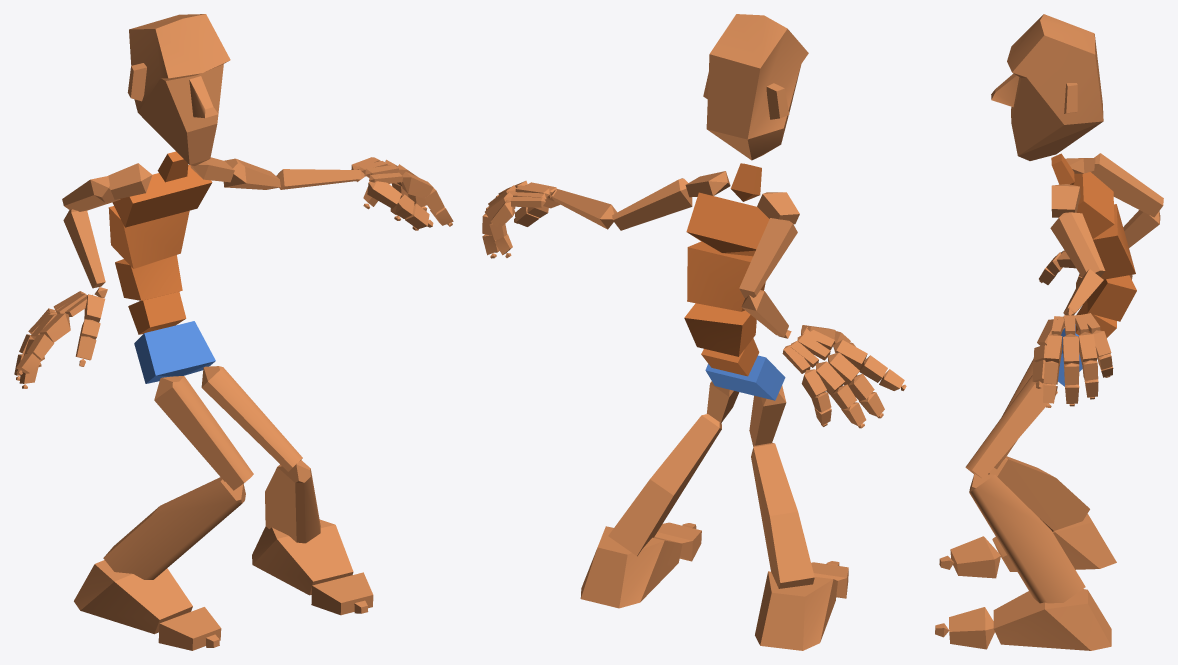
Rendered from prueba76.obj.
3 views of the same model, side by side, from view 1: azimuth 30°, elevation 25°; view 2: azimuth 150°, elevation 25°; view 3: azimuth 270°, elevation 25° (orthographic). The views are drawn at different scales.
Visible parts, largest first — view 1: BOPED_Head, BOPED_R_leg, BOPED_R_foot, BOPED_R_foot01, BOPED_R_legup, BOPED_L_leg, Bone01, BOPED_L_legup, Bone04, Bone05, Bone03, BOPED_R_foot_toe04 (+10 smaller); view 2: BOPED_Head, BOPED_R_leg, BOPED_L_leg, BOPED_R_foot01, BOPED_R_foot, Bone05, Bone04, Bone03, BOPED_R_arm_upper, BOPED_L_arm_upper, Bone01, BOPED_R_legup (+9 smaller); view 3: BOPED_Head, BOPED_L_leg, BOPED_R_foot01, BOPED_R_leg, BOPED_L_legup, BOPED_R_foot, BOPED_L_arm_upper, BOPED_R_arm_upper, Bone05, Bone04, BOPED_R_foot_toe01, Bone03 (+13 smaller).
Boxes of the visible parts, x1=… form: BOPED_Head: x1=127, y1=14, x2=230, y2=165; BOPED_R_leg: x1=103, y1=477, x2=245, y2=579; BOPED_R_foot: x1=74, y1=560, x2=192, y2=634; BOPED_R_foot01: x1=252, y1=519, x2=353, y2=595; BOPED_R_legup: x1=154, y1=376, x2=253, y2=490; BOPED_L_leg: x1=265, y1=460, x2=320, y2=543; Bone01: x1=134, y1=321, x2=215, y2=383; BOPED_L_legup: x1=201, y1=366, x2=302, y2=471; Bone04: x1=108, y1=206, x2=189, y2=268; Bone05: x1=112, y1=165, x2=212, y2=227; Bone03: x1=115, y1=255, x2=182, y2=300; BOPED_R_foot_toe04: x1=311, y1=572, x2=373, y2=615; BOPED_Head: x1=703, y1=14, x2=808, y2=160; BOPED_R_leg: x1=751, y1=442, x2=814, y2=588; BOPED_L_leg: x1=608, y1=414, x2=721, y2=556; BOPED_R_foot01: x1=580, y1=526, x2=682, y2=608; BOPED_R_foot: x1=755, y1=571, x2=837, y2=650; Bone05: x1=686, y1=192, x2=769, y2=256; Bone04: x1=687, y1=241, x2=765, y2=311; Bone03: x1=684, y1=303, x2=756, y2=356; BOPED_R_arm_upper: x1=739, y1=218, x2=797, y2=298; BOPED_L_arm_upper: x1=612, y1=178, x2=692, y2=230; Bone01: x1=705, y1=355, x2=785, y2=400; BOPED_R_legup: x1=749, y1=385, x2=786, y2=446; BOPED_Head: x1=991, y1=14, x2=1103, y2=160; BOPED_L_leg: x1=969, y1=473, x2=1085, y2=603; BOPED_R_foot01: x1=993, y1=589, x2=1111, y2=650; BOPED_R_leg: x1=988, y1=456, x2=1089, y2=531; BOPED_L_legup: x1=965, y1=375, x2=1057, y2=478; BOPED_R_foot: x1=992, y1=513, x2=1116, y2=571; BOPED_L_arm_upper: x1=1050, y1=212, x2=1105, y2=277; BOPED_R_arm_upper: x1=1090, y1=153, x2=1163, y2=217; Bone05: x1=1073, y1=172, x2=1114, y2=238; Bone04: x1=1093, y1=204, x2=1135, y2=279; BOPED_R_foot_toe01: x1=950, y1=536, x2=1000, y2=578; Bone03: x1=1087, y1=275, x2=1136, y2=321.
Bounding box in the file's own units: 131 × 172 × 63.95.
